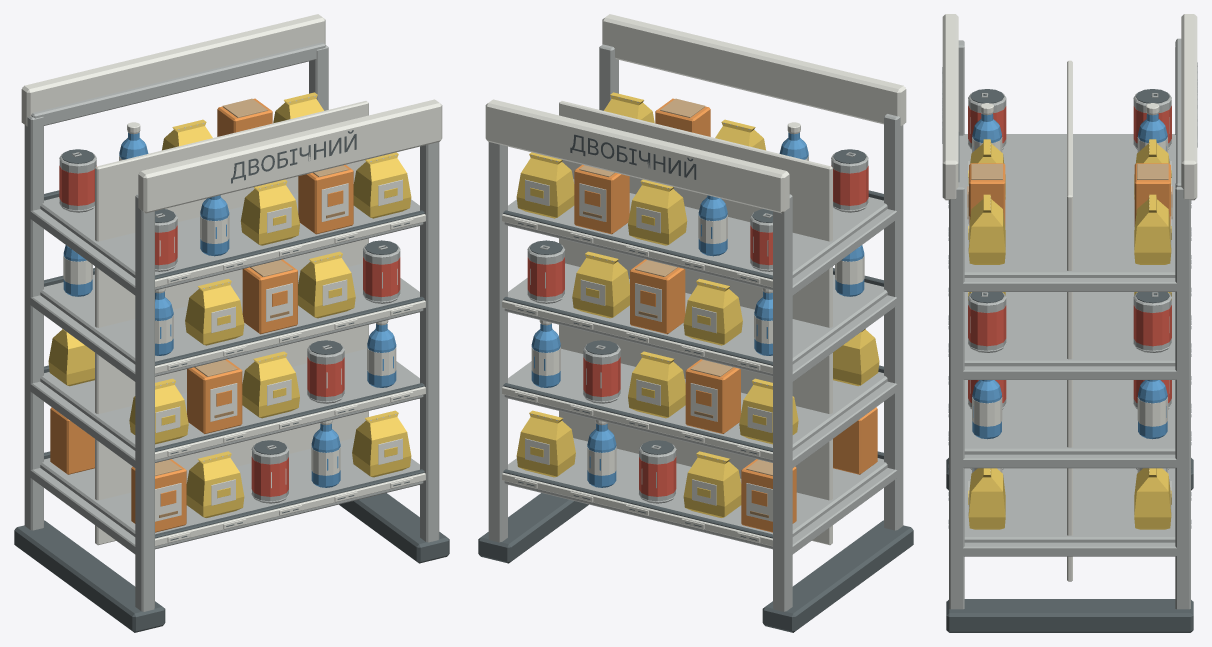
The model's file is Shelf_DoubleSided.fbx.
3 renders of one model, left to right at view 1: azimuth 30°, elevation 25°; view 2: azimuth 150°, elevation 25°; view 3: azimuth 270°, elevation 25°, orthographic. The views are drawn at different scales.
Visible parts, largest first — view 1: Shelf_DoubleSided__LPCXFER, Shelf_DoubleSided__Header_double__LPCXFER, Shelf_DoubleSided__Back_double__LPCXFER, Shelf_DoubleSided__Shelf_1__LPCXFER, Shelf_DoubleSided__Shelf_4__LPCXFER, Shelf_DoubleSided__Shelf_3__LPCXFER, Shelf_DoubleSided__Shelf_2__LPCXFER, Shelf_DoubleSided_Item_2_F_2_box__LPCXFER, Shelf_DoubleSided_Item_3_F_3_box__LPCXFER, Shelf_DoubleSided_Item_4_F_4_box__LPCXFER, Shelf_DoubleSided_Item_3_F_2_bag__LPCXFER, Shelf_DoubleSided_Item_1_F_5_bag__LPCXFER (+24 smaller); view 2: Shelf_DoubleSided__LPCXFER, Shelf_DoubleSided__Header_double__LPCXFER, Shelf_DoubleSided__Back_double__LPCXFER, Shelf_DoubleSided__Shelf_1__LPCXFER, Shelf_DoubleSided__Shelf_4__LPCXFER, Shelf_DoubleSided__Shelf_3__LPCXFER, Shelf_DoubleSided__Shelf_2__LPCXFER, Shelf_DoubleSided_Item_2_B_2_box__LPCXFER, Shelf_DoubleSided_Item_3_B_3_box__LPCXFER, Shelf_DoubleSided_Item_4_B_4_box__LPCXFER, Shelf_DoubleSided_Item_3_B_2_bag__LPCXFER, Shelf_DoubleSided_Item_1_B_5_bag__LPCXFER (+24 smaller); view 3: Shelf_DoubleSided__LPCXFER, Shelf_DoubleSided__Shelf_4__LPCXFER, Shelf_DoubleSided__Shelf_2__LPCXFER, Shelf_DoubleSided__Shelf_1__LPCXFER, Shelf_DoubleSided__Shelf_3__LPCXFER, Shelf_DoubleSided__Header_double__LPCXFER, Shelf_DoubleSided__Back_double__LPCXFER, Shelf_DoubleSided_Item_4_B_5_bag__LPCXFER, Shelf_DoubleSided_Item_4_F_5_bag__LPCXFER, Shelf_DoubleSided_Item_3_B_5_can__LPCXFER, Shelf_DoubleSided_Item_3_F_5_can__LPCXFER, Shelf_DoubleSided_Item_1_B_5_bag__LPCXFER (+11 smaller).
Boxes of the visible parts, x1,y1,x2,y2 form: Shelf_DoubleSided__LPCXFER: [14, 42, 449, 632]; Shelf_DoubleSided__Header_double__LPCXFER: [21, 14, 442, 213]; Shelf_DoubleSided__Back_double__LPCXFER: [95, 101, 368, 545]; Shelf_DoubleSided__Shelf_1__LPCXFER: [40, 438, 425, 549]; Shelf_DoubleSided__Shelf_4__LPCXFER: [40, 179, 425, 290]; Shelf_DoubleSided__Shelf_3__LPCXFER: [40, 263, 425, 376]; Shelf_DoubleSided__Shelf_2__LPCXFER: [40, 348, 425, 462]; Shelf_DoubleSided_Item_2_F_2_box__LPCXFER: [187, 359, 242, 433]; Shelf_DoubleSided_Item_3_F_3_box__LPCXFER: [242, 259, 297, 334]; Shelf_DoubleSided_Item_4_F_4_box__LPCXFER: [298, 164, 353, 234]; Shelf_DoubleSided_Item_3_F_2_bag__LPCXFER: [185, 278, 244, 345]; Shelf_DoubleSided_Item_1_F_5_bag__LPCXFER: [352, 410, 411, 477]; Shelf_DoubleSided__LPCXFER: [478, 44, 913, 632]; Shelf_DoubleSided__Header_double__LPCXFER: [485, 14, 906, 213]; Shelf_DoubleSided__Back_double__LPCXFER: [559, 101, 832, 545]; Shelf_DoubleSided__Shelf_1__LPCXFER: [502, 438, 887, 549]; Shelf_DoubleSided__Shelf_4__LPCXFER: [502, 179, 887, 290]; Shelf_DoubleSided__Shelf_3__LPCXFER: [502, 263, 887, 376]; Shelf_DoubleSided__Shelf_2__LPCXFER: [502, 348, 887, 462]; Shelf_DoubleSided_Item_2_B_2_box__LPCXFER: [685, 359, 740, 433]; Shelf_DoubleSided_Item_3_B_3_box__LPCXFER: [630, 259, 685, 334]; Shelf_DoubleSided_Item_4_B_4_box__LPCXFER: [574, 164, 629, 234]; Shelf_DoubleSided_Item_3_B_2_bag__LPCXFER: [683, 278, 742, 345]; Shelf_DoubleSided_Item_1_B_5_bag__LPCXFER: [516, 410, 575, 477]; Shelf_DoubleSided__LPCXFER: [946, 38, 1193, 632]; Shelf_DoubleSided__Shelf_4__LPCXFER: [948, 132, 1191, 277]; Shelf_DoubleSided__Shelf_2__LPCXFER: [948, 320, 1191, 454]; Shelf_DoubleSided__Shelf_1__LPCXFER: [948, 414, 1191, 542]; Shelf_DoubleSided__Shelf_3__LPCXFER: [948, 232, 1191, 366]; Shelf_DoubleSided__Header_double__LPCXFER: [942, 14, 1197, 200]; Shelf_DoubleSided__Back_double__LPCXFER: [1067, 60, 1072, 581]; Shelf_DoubleSided_Item_4_B_5_bag__LPCXFER: [1134, 194, 1171, 264]; Shelf_DoubleSided_Item_4_F_5_bag__LPCXFER: [968, 194, 1005, 264]; Shelf_DoubleSided_Item_3_B_5_can__LPCXFER: [1133, 292, 1171, 352]; Shelf_DoubleSided_Item_3_F_5_can__LPCXFER: [968, 292, 1006, 352]; Shelf_DoubleSided_Item_1_B_5_bag__LPCXFER: [1134, 468, 1171, 529].
Size of the model in its own units: 154 by 212 by 105.
